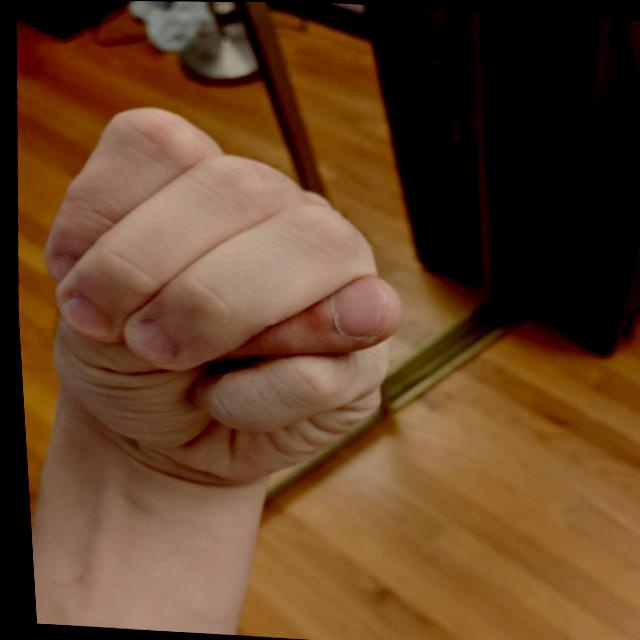M: (4, 94, 433, 496)
